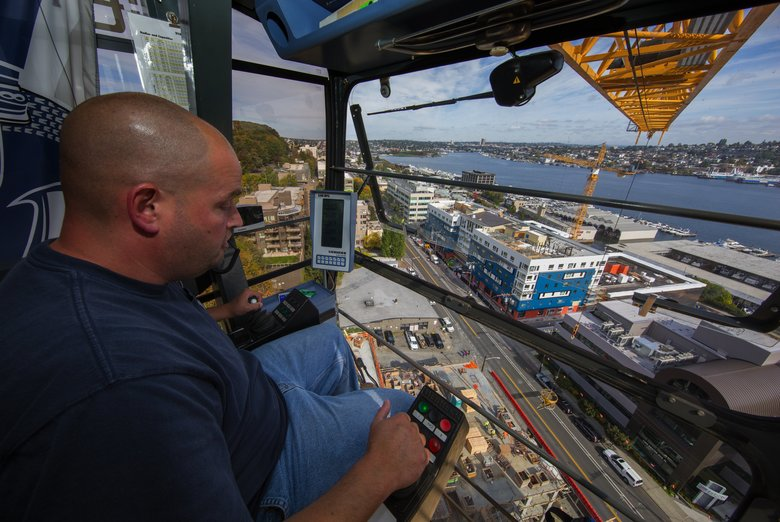crane-operator: (64, 85, 287, 391)
